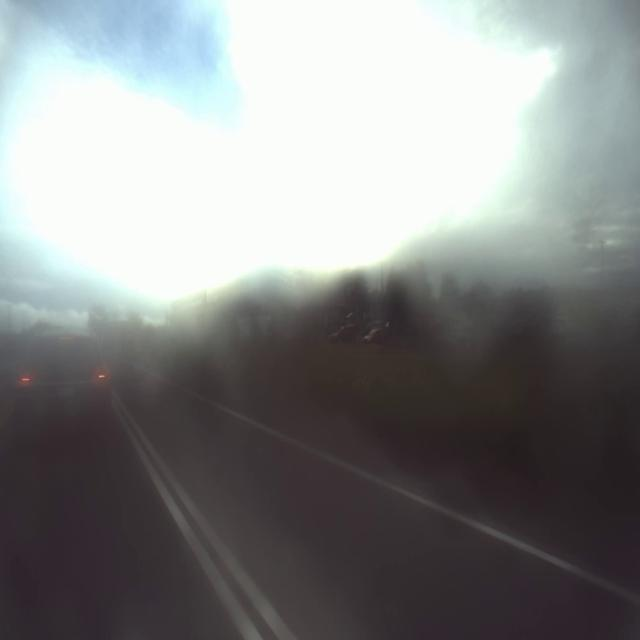car: (13, 312, 109, 456)
